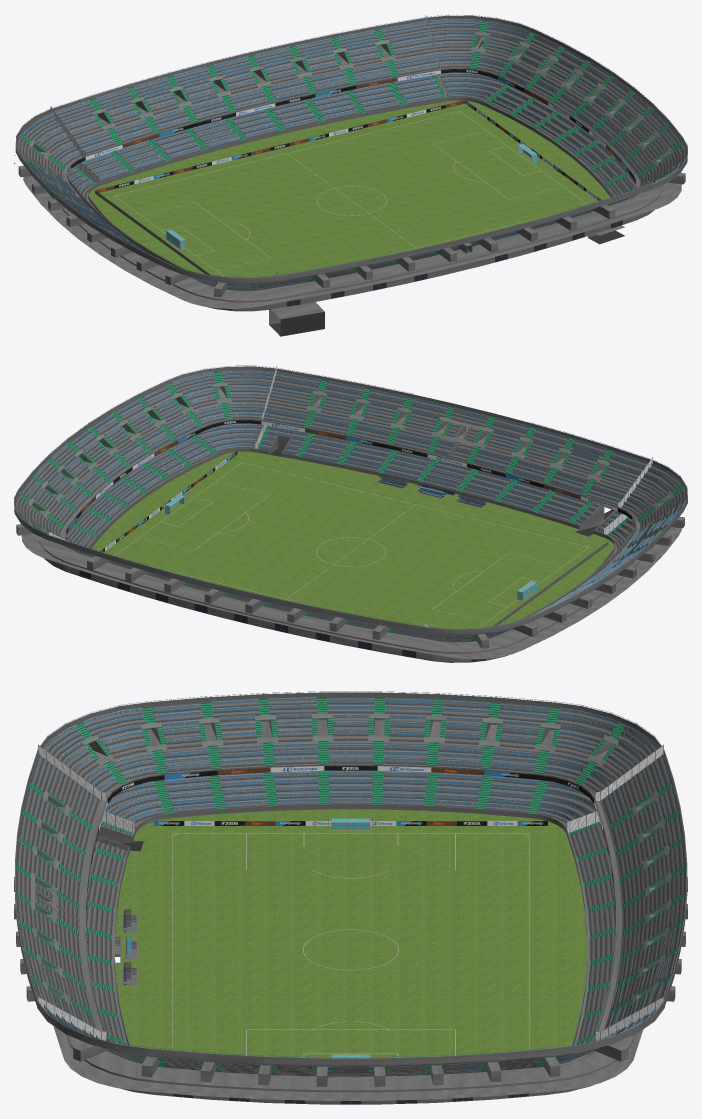
Rendered from foodballfield.FBX.
3 renders of one model, top to bottom at view 1: azimuth 30°, elevation 25°; view 2: azimuth 150°, elevation 25°; view 3: azimuth 270°, elevation 25°, orthographic. The views are drawn at different scales.
Parts seen in each view (by area): view 1: 对象002, Mesh1_003, Mesh1_002, 图形002, Mesh1_001, 图形001, Mesh1_017, 对象003, Mesh1_008, Mesh1_025, Mesh1_016, Mesh1_027; view 2: 对象002, Mesh1_003, Mesh1_002, 图形002, 图形001, Mesh1_001, Mesh1_017, Mesh1_025, 对象003, Mesh1_027, Mesh1_016; view 3: 对象002, Mesh1_003, Mesh1_002, 图形002, 图形001, Mesh1_001, Mesh1_017, Mesh1_016, Mesh1_025, 对象003.
Boxes of the visible parts, left/top/right/bottom form: 对象002: left=101, top=105, right=595, bottom=277; Mesh1_003: left=16, top=19, right=687, bottom=290; Mesh1_002: left=14, top=15, right=687, bottom=324; 图形002: left=18, top=19, right=685, bottom=290; Mesh1_001: left=19, top=20, right=683, bottom=290; 图形001: left=89, top=100, right=610, bottom=274; Mesh1_017: left=67, top=69, right=635, bottom=201; 对象003: left=114, top=111, right=587, bottom=276; Mesh1_008: left=269, top=230, right=624, bottom=336; Mesh1_025: left=17, top=14, right=681, bottom=277; Mesh1_016: left=50, top=15, right=652, bottom=275; Mesh1_027: left=217, top=220, right=622, bottom=310; 对象002: left=106, top=457, right=602, bottom=628; Mesh1_003: left=14, top=370, right=687, bottom=642; Mesh1_002: left=14, top=366, right=687, bottom=662; 图形002: left=18, top=370, right=685, bottom=641; 图形001: left=91, top=451, right=614, bottom=625; Mesh1_001: left=18, top=371, right=684, bottom=641; Mesh1_017: left=66, top=420, right=635, bottom=622; Mesh1_025: left=16, top=365, right=681, bottom=628; 对象003: left=114, top=462, right=588, bottom=627; Mesh1_027: left=79, top=570, right=485, bottom=661; Mesh1_016: left=49, top=365, right=652, bottom=627; 对象002: left=159, top=828, right=542, bottom=1058; Mesh1_003: left=15, top=697, right=686, bottom=1076; Mesh1_002: left=14, top=692, right=687, bottom=1104; 图形002: left=18, top=697, right=683, bottom=1075; 图形001: left=115, top=809, right=586, bottom=1049; Mesh1_001: left=15, top=697, right=686, bottom=1076; Mesh1_017: left=86, top=766, right=615, bottom=979; Mesh1_016: left=38, top=745, right=663, bottom=1040; Mesh1_025: left=26, top=691, right=675, bottom=1057; 对象003: left=172, top=833, right=529, bottom=1057.
Size of the model in its own units: 16532 by 1908 by 12839.
